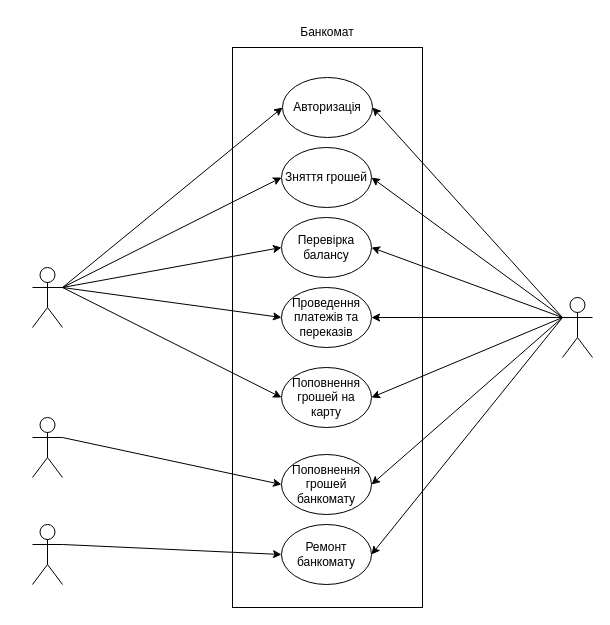
This 610x625 diagram has some shape labels left out. Each missing label, with the box of its shape:
Банк: (562, 296, 592, 358)
Клієнт: (32, 266, 62, 328)
Ремонтник: (32, 524, 62, 584)
Інкасатор: (32, 416, 62, 478)
